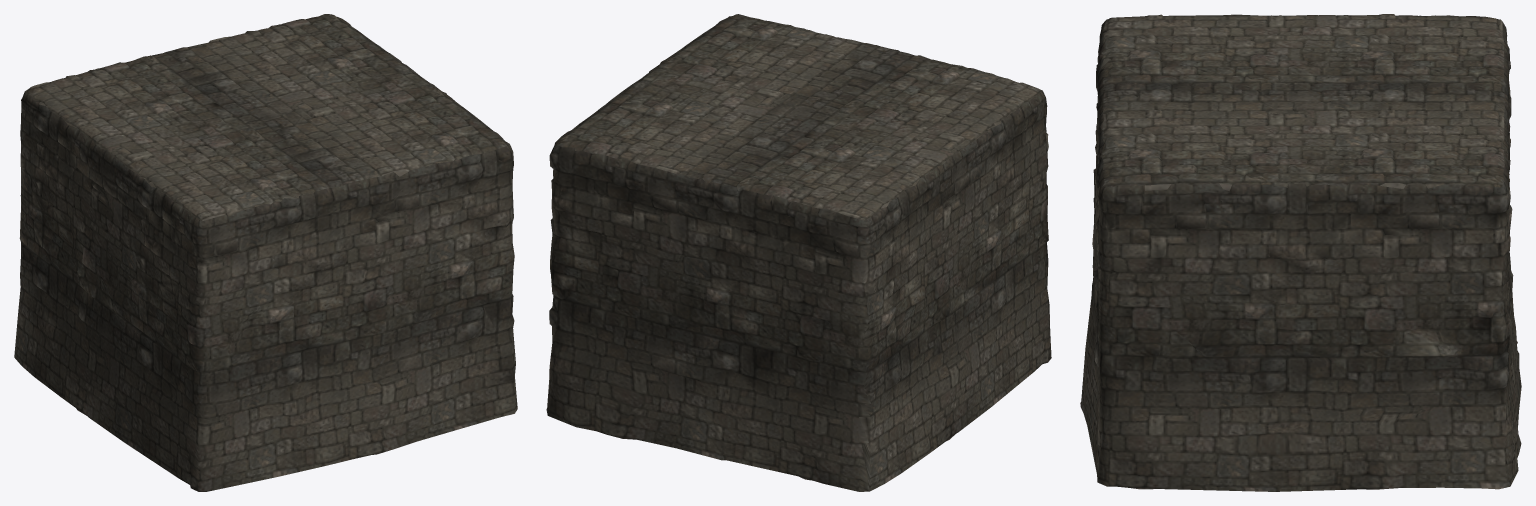
The model's file is Block_01_a.fbx.
The picture shows the model from 3 angles, left to right: view 1: azimuth 30°, elevation 25°; view 2: azimuth 150°, elevation 25°; view 3: azimuth 270°, elevation 25°; orthographic projection. The views are drawn at different scales.
Visible parts, largest first — view 1: Bock_01_a; view 2: Bock_01_a; view 3: Bock_01_a.
Boxes of the visible parts, x1,y1,x2,y2 form: Bock_01_a: (14,14,517,491); Bock_01_a: (546,14,1051,491); Bock_01_a: (1080,14,1521,491).
Size of what is drawn, in the model's own units: 1334 by 1034 by 1342.
